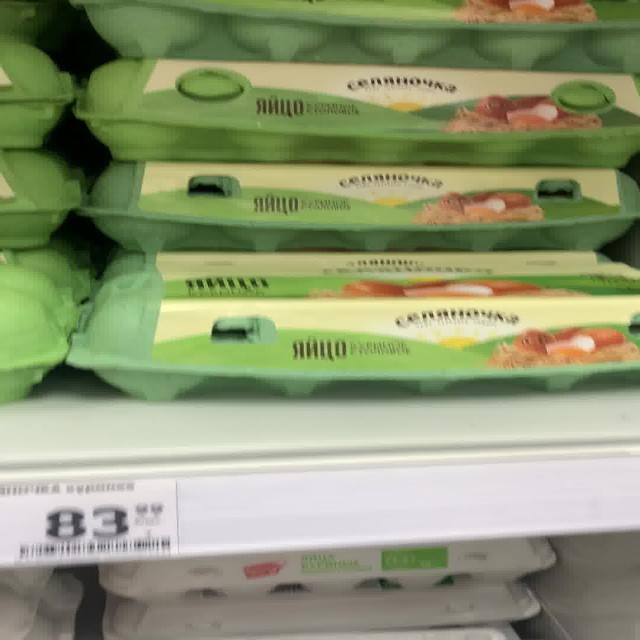egg box: (70, 248, 627, 396), (64, 47, 635, 165), (85, 160, 632, 247)
